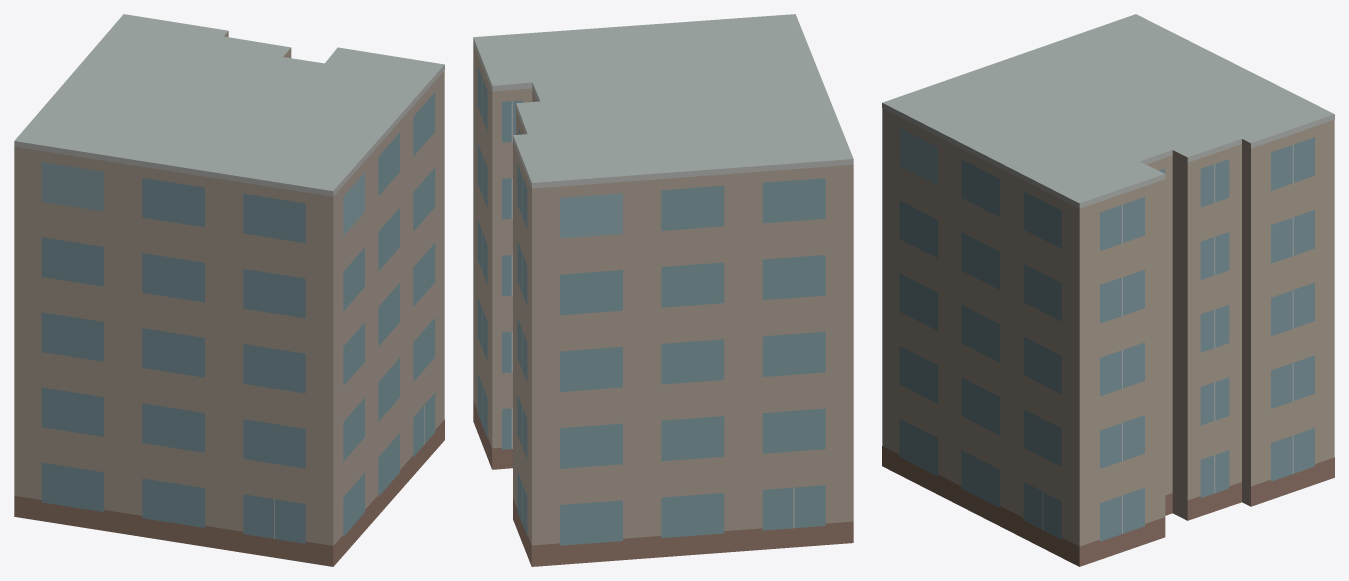
The model's file is survey-upis-32949248.glb.
3 renders of one model, left to right at view 1: azimuth 30°, elevation 25°; view 2: azimuth 150°, elevation 25°; view 3: azimuth 270°, elevation 25°, orthographic. The views are drawn at different scales.
Parts seen in each view (by area): view 1: survey-upis-32949248.tmp; view 2: survey-upis-32949248.tmp; view 3: survey-upis-32949248.tmp.
Boxes of the visible parts, x1,y1,x2,y2 form: survey-upis-32949248.tmp: (14,14,444,566); survey-upis-32949248.tmp: (473,14,853,566); survey-upis-32949248.tmp: (882,14,1334,566).
Size of the model in its own units: 18.29 by 16.35 by 18.46.
